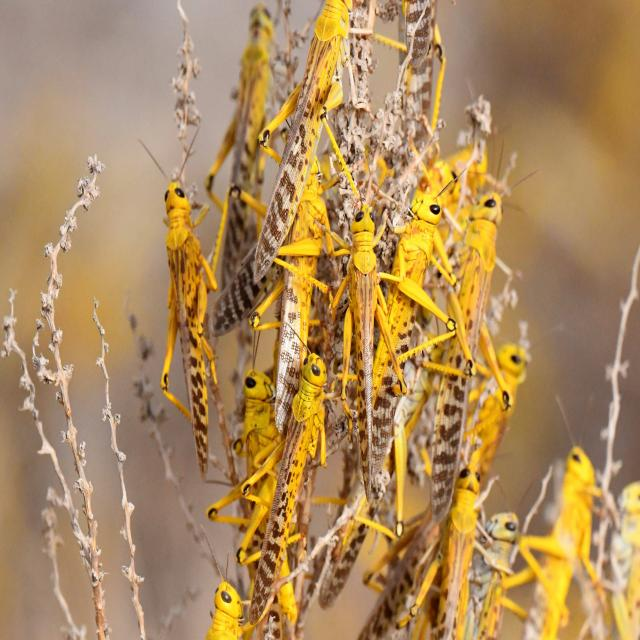ZhaMeng: (130, 125, 218, 478), (434, 179, 516, 517), (254, 2, 344, 279), (373, 165, 448, 423), (340, 197, 399, 492), (264, 353, 326, 610), (435, 438, 492, 640)
